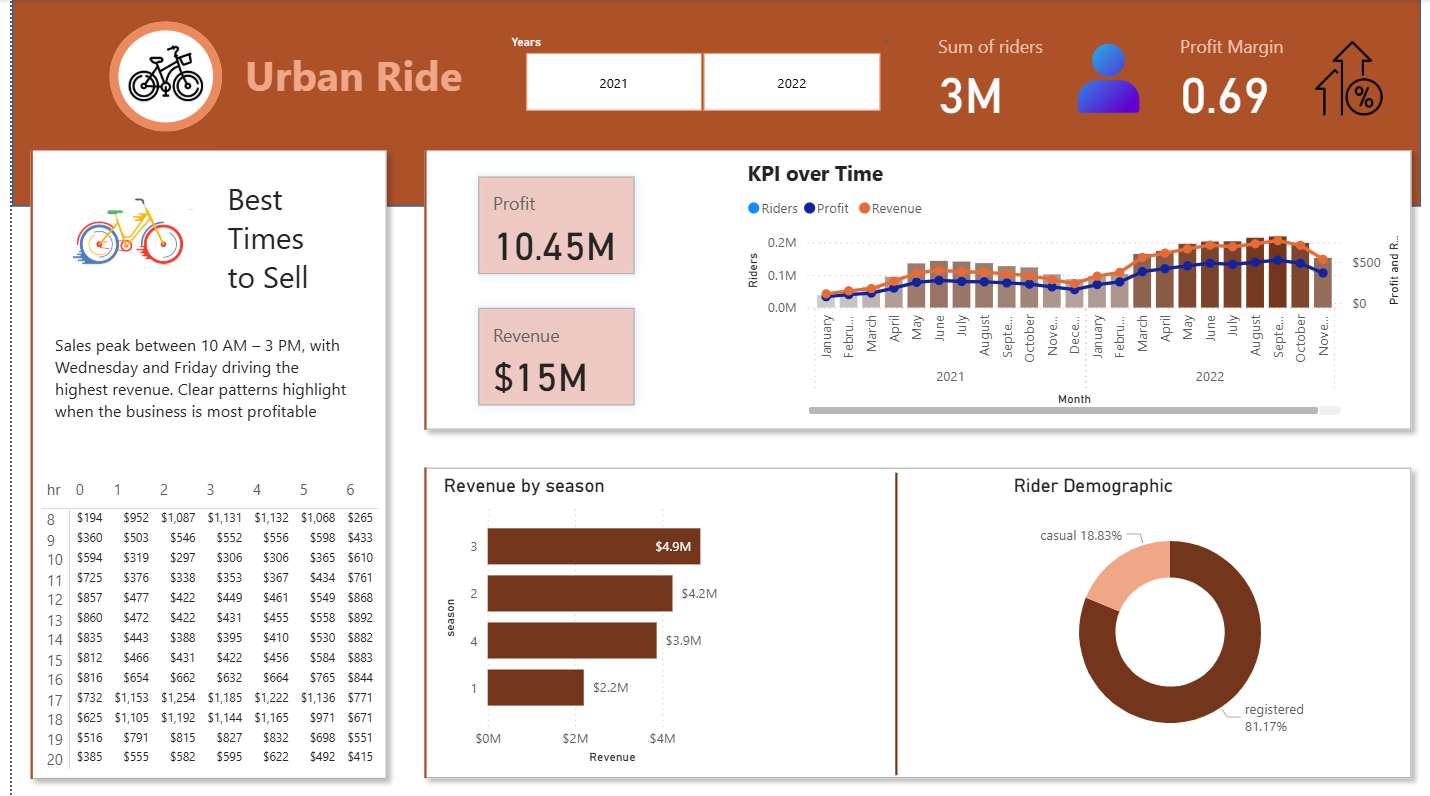

The dashboard page shown, as its layout file describes it:
{"tool":"powerbi","page":{"name":"Page 1","canvas":[1280,720],"ordinal":0},"visuals":[{"type":"shape","box":[0,0,1270.5,187.1],"z":0},{"type":"cardVisual","fields":{"Data":["Min(Query1.riders)"]},"box":[0,119.4,355.4,601],"z":1000},{"type":"cardVisual","fields":{"Data":["Min(Query1.riders)"]},"box":[355.4,119.4,924.9,286.8],"z":2000},{"type":"cardVisual","fields":{"Data":["Min(Query1.riders)"]},"box":[355.4,406.2,924.9,314.2],"z":3000},{"type":"cardVisual","fields":{"Data":["Min(Query1.riders)"]},"box":[22,133.1,167.4,163.3],"z":4000},{"type":"pivotTable","fields":{"Values":["Avg(Query1.revenue)"],"Columns":["Query1.weekday"],"Rows":["Query1.hr"]},"box":[22,428.1,314.2,273.1],"z":5000},{"type":"textbox","box":[189.4,156.4,123.5,120.8],"z":6000},{"type":"textbox","box":[34.3,296.4,278.6,109.8],"z":7000},{"type":"lineClusteredColumnComboChart","title":"KPI over Time","fields":{"Category":["Query1.dteday.Variation.Date Hierarchy.Year","Query1.dteday.Variation.Date Hierarchy.Month","Query1.dteday.Variation.Date Hierarchy.Day"],"Y":["Sum(Query1.riders)"],"Y2":["Avg(Query1.profit)","Avg(Query1.revenue)"]},"box":[657.9,144.3,599.2,236],"z":8000},{"type":"clusteredBarChart","fields":{"Category":["Query1.season"],"Y":["Sum(Query1.revenue)"]},"box":[384.2,428.1,286.8,266.2],"z":9000},{"type":"donutChart","title":"Rider Demographic","fields":{"Category":["Query1.rider_type"],"Y":["Sum(Query1.riders)"]},"box":[898.8,428.1,292.3,266.2],"z":10000},{"type":"shape","box":[639.5,426.8,316.7,272.7],"z":11000},{"type":"cardVisual","title":"KPI over Time","fields":{"Data":["Sum(Query1.profit)","Sum(Query1.revenue)"]},"box":[404.8,144.3,173.6,238.5],"z":11001},{"type":"cardVisual","fields":{"Data":["Sum(Query1.riders)","Query1.Profit Margin"]},"box":[818.1,14.7,439,105.2],"z":11002},{"type":"shape","box":[88,20.8,101.5,99],"z":11003},{"type":"image","box":[100.3,26.9,77,80.7],"z":11004},{"type":"textbox","box":[205.4,37.9,373,67.3],"z":11005},{"type":"slicer","fields":{"Values":["Query1.Years"]},"box":[437.8,26.9,369.3,80.7],"z":11006}]}

Visuals, with their boxes in screenshot pixels (x1, y1, x2, y2), scaled from the page's 1280x720 canvas onto the 1430x796 screenshot:
shape: <bbox>0, 0, 1419, 207</bbox>
cardVisual - Min(Query1.riders): <bbox>0, 132, 397, 795</bbox>
cardVisual - Min(Query1.riders): <bbox>397, 132, 1429, 449</bbox>
cardVisual - Min(Query1.riders): <bbox>397, 449, 1429, 795</bbox>
cardVisual - Min(Query1.riders): <bbox>25, 147, 212, 328</bbox>
pivotTable - Avg(Query1.revenue) x Query1.weekday: <bbox>25, 473, 376, 775</bbox>
textbox: <bbox>212, 173, 350, 306</bbox>
textbox: <bbox>38, 328, 350, 449</bbox>
"KPI over Time" lineClusteredColumnComboChart: <bbox>735, 160, 1404, 420</bbox>
clusteredBarChart - Query1.season x Sum(Query1.revenue): <bbox>429, 473, 750, 768</bbox>
"Rider Demographic" donutChart: <bbox>1004, 473, 1331, 768</bbox>
shape: <bbox>714, 472, 1068, 773</bbox>
"KPI over Time" cardVisual: <bbox>452, 160, 646, 423</bbox>
cardVisual - Sum(Query1.riders) x Query1.Profit Margin: <bbox>914, 16, 1404, 133</bbox>
shape: <bbox>98, 23, 212, 132</bbox>
image: <bbox>112, 30, 198, 119</bbox>
textbox: <bbox>229, 42, 646, 116</bbox>
slicer - Query1.Years: <bbox>489, 30, 902, 119</bbox>
